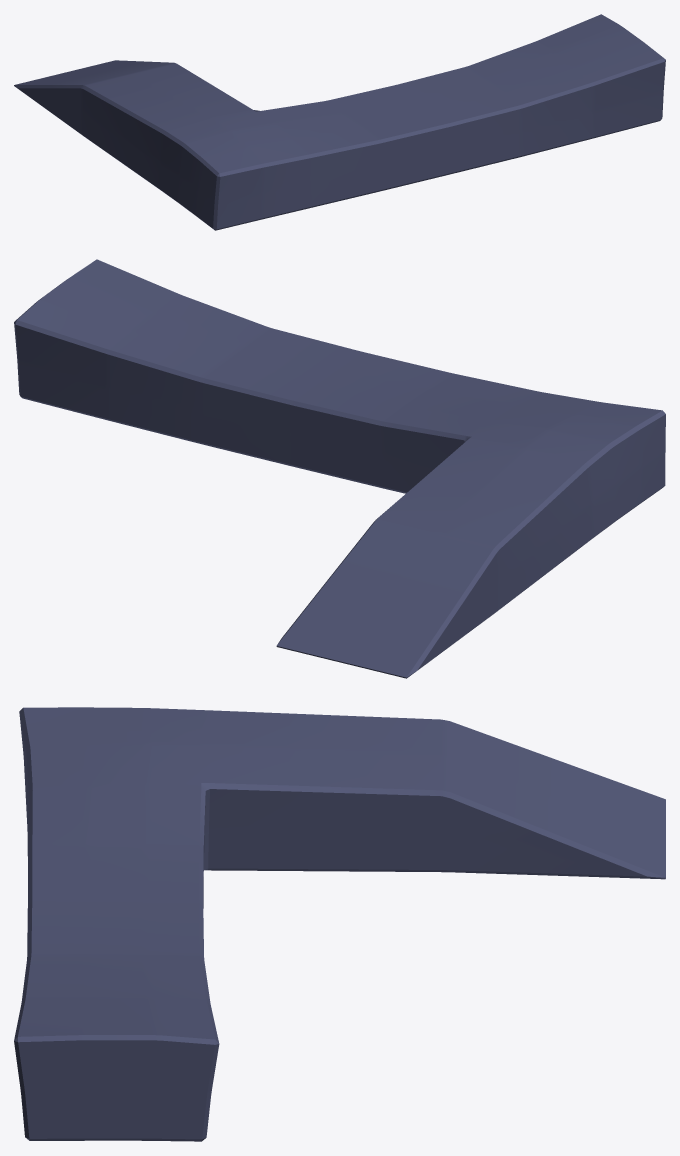
The model's file is platform1_sty.fbx.
The picture shows the model from 3 angles, top to bottom: view 1: azimuth 30°, elevation 25°; view 2: azimuth 150°, elevation 25°; view 3: azimuth 270°, elevation 25°; orthographic projection. The views are drawn at different scales.
Visible parts, largest first — view 1: ConveyorPlatform; view 2: ConveyorPlatform; view 3: ConveyorPlatform.
Part boxes in pixels (x1,y1,x2,y2): ConveyorPlatform: [14, 14, 665, 230]; ConveyorPlatform: [14, 259, 665, 678]; ConveyorPlatform: [14, 707, 665, 1141].
Size of the model in its own units: 940 by 139 by 743.
